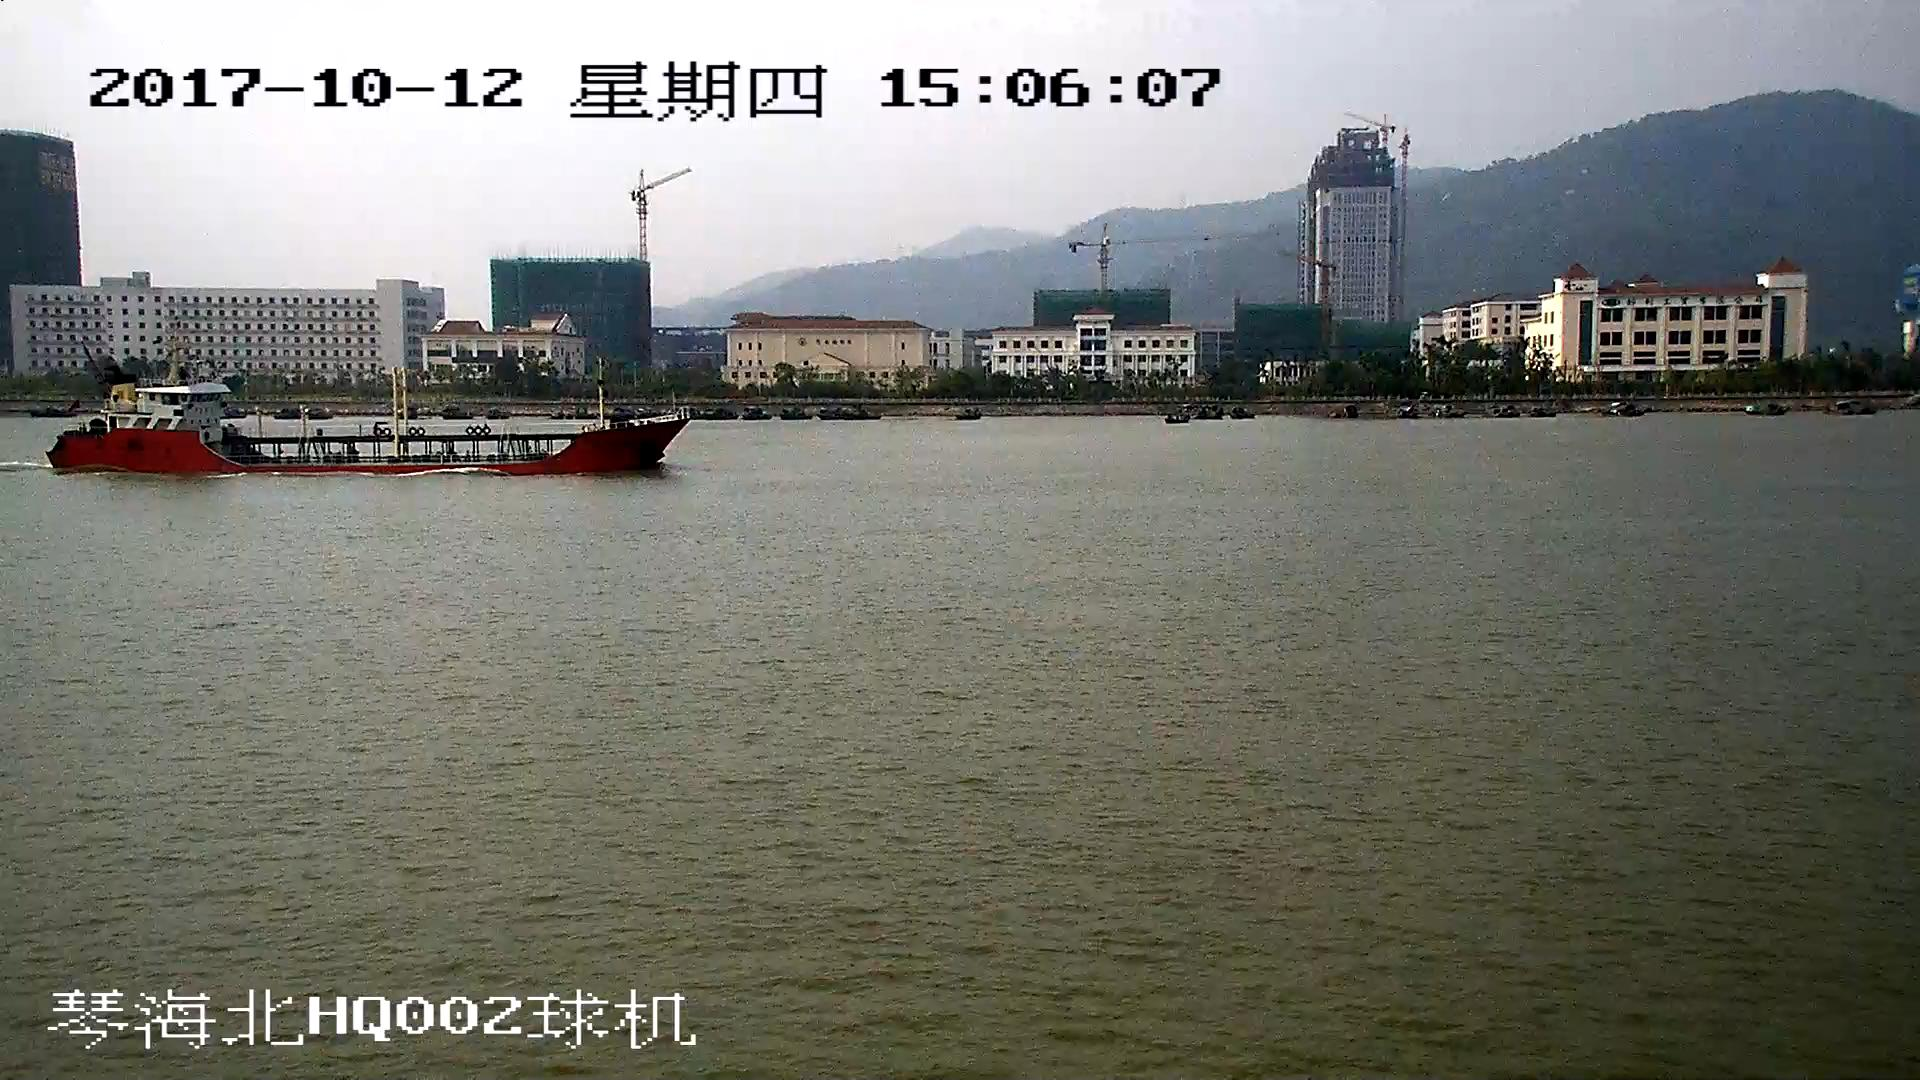general cargo ship: (49, 352, 687, 478)
